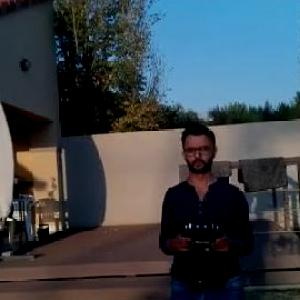follow: (152, 114, 257, 299)
